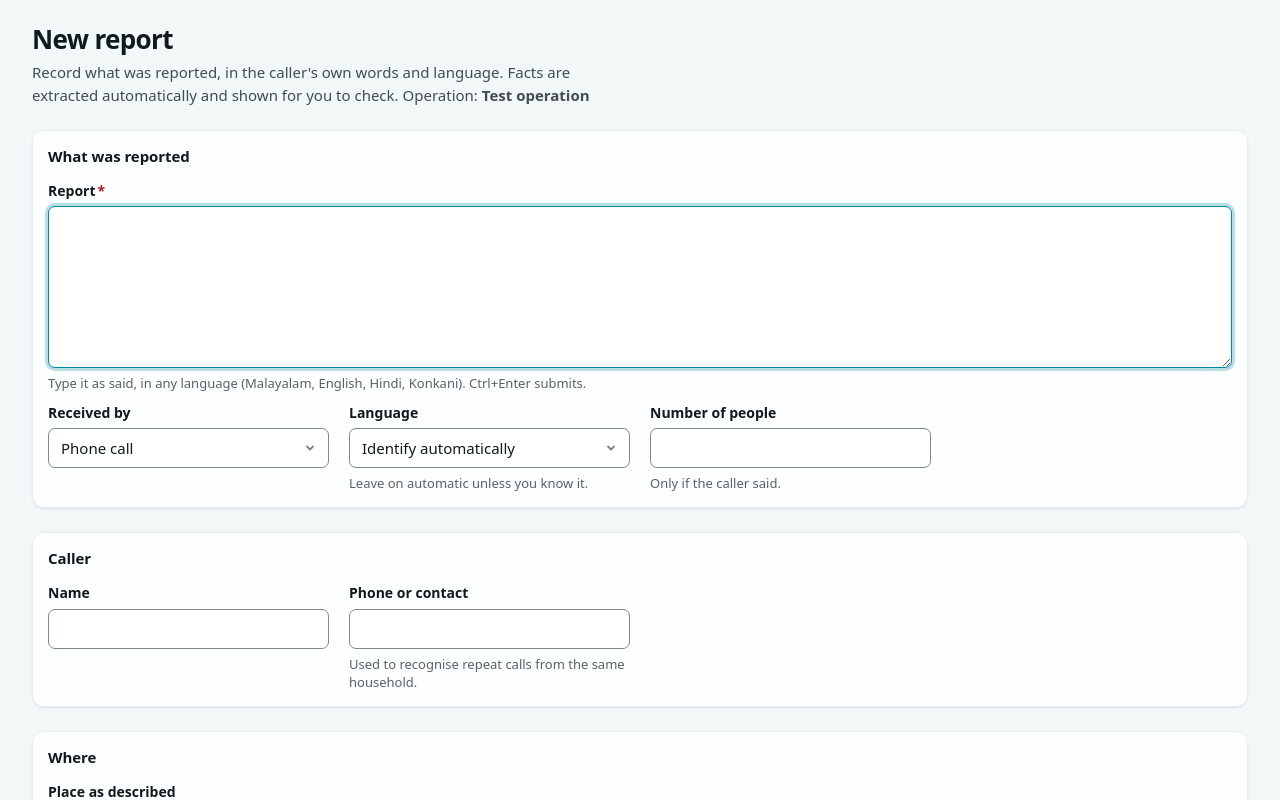
Test: intake form › reuses the idempotency key when resubmitting after a network failure
The width and height of the screenshot is (1280, 800).
Type "Water rising, 4 people" into the text box labelled "Report" at (640, 287), box [48,206,1232,368]
(page scrolled)
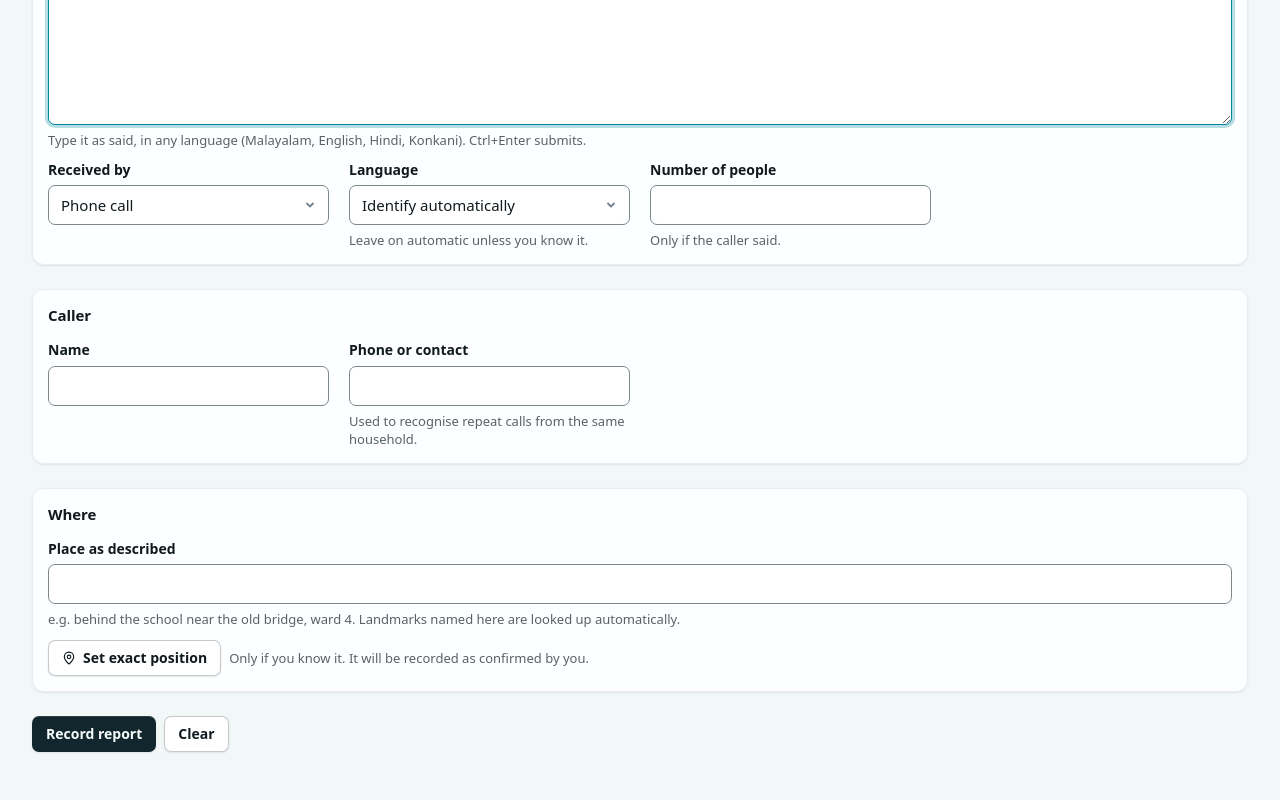
Click the button "Record report" at (94, 734), box [32,716,156,752]
(page scrolled)
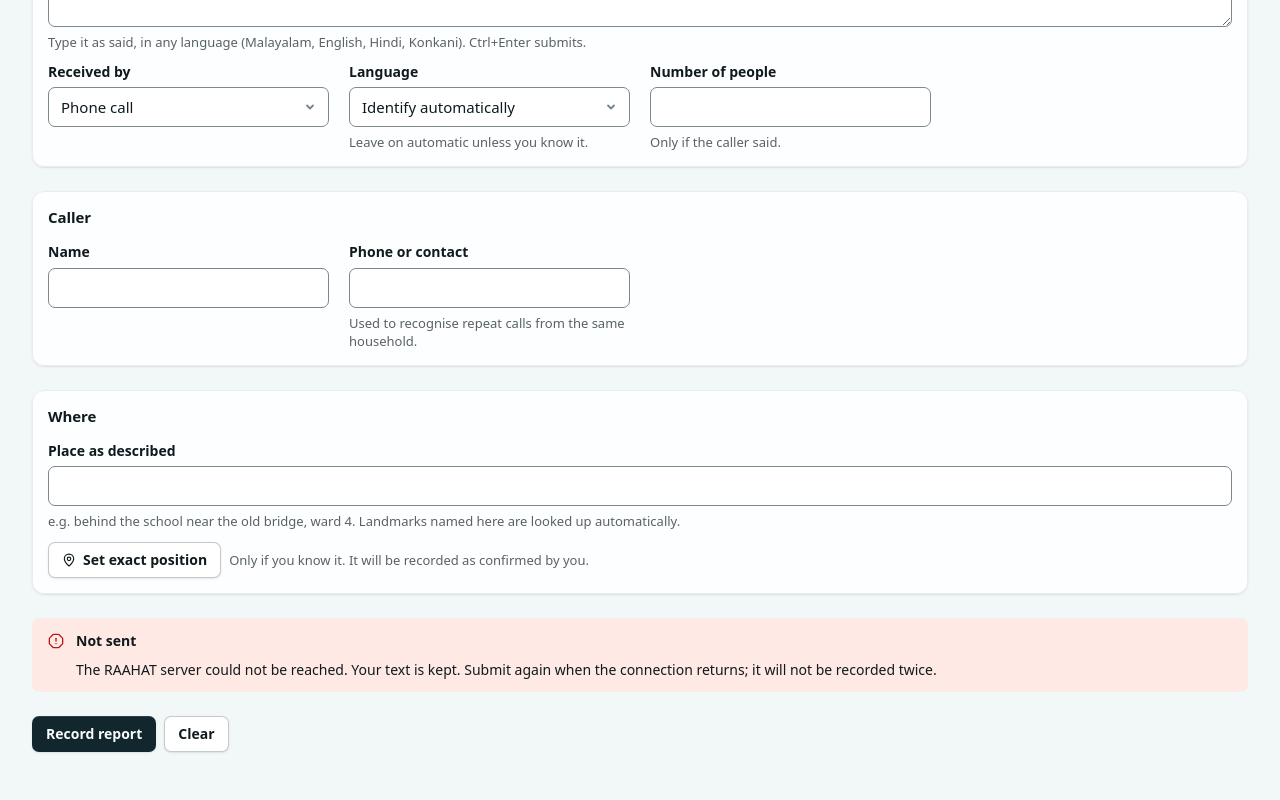
Check: the text "it will not be recorded twice" is shown, box [348,660,937,679]
Click the button "Record report" at (94, 734), box [32,716,156,752]
(page scrolled)
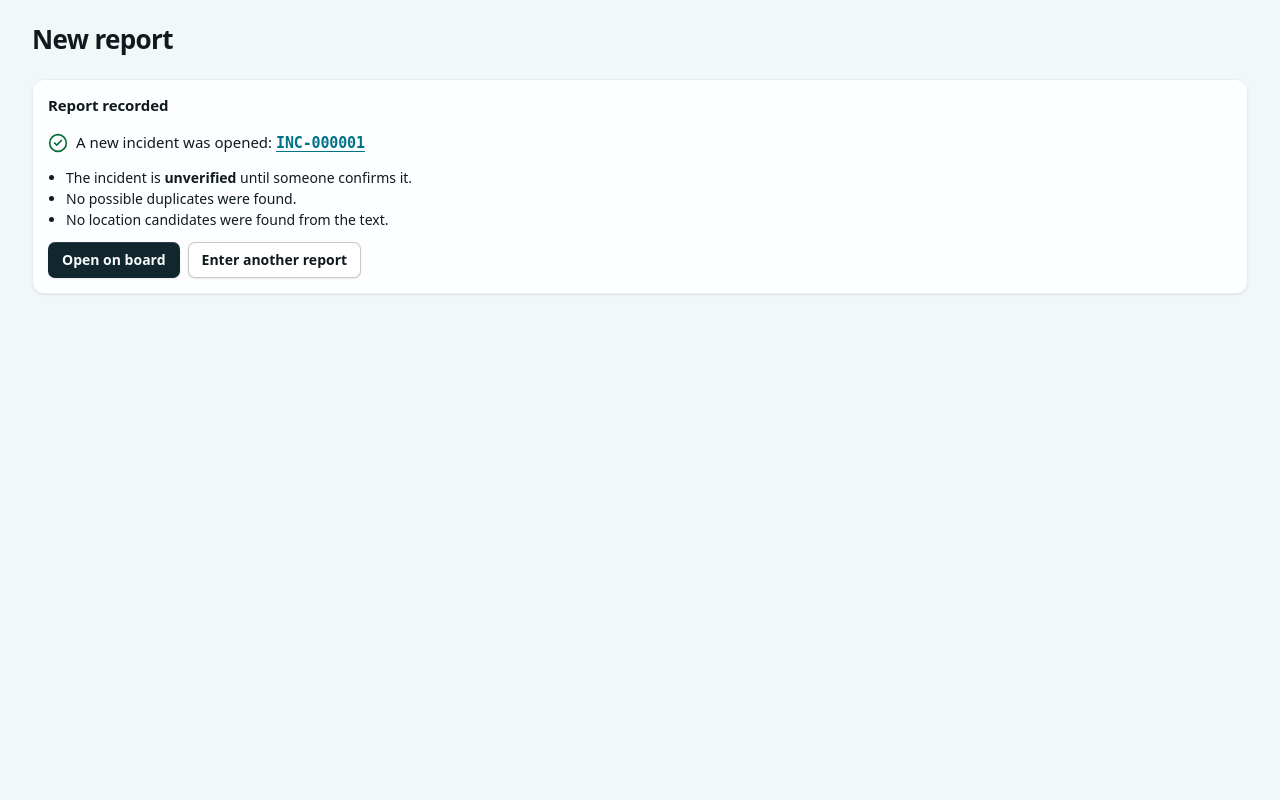
Check: the heading "Report recorded" is shown, box [48,96,168,114]
